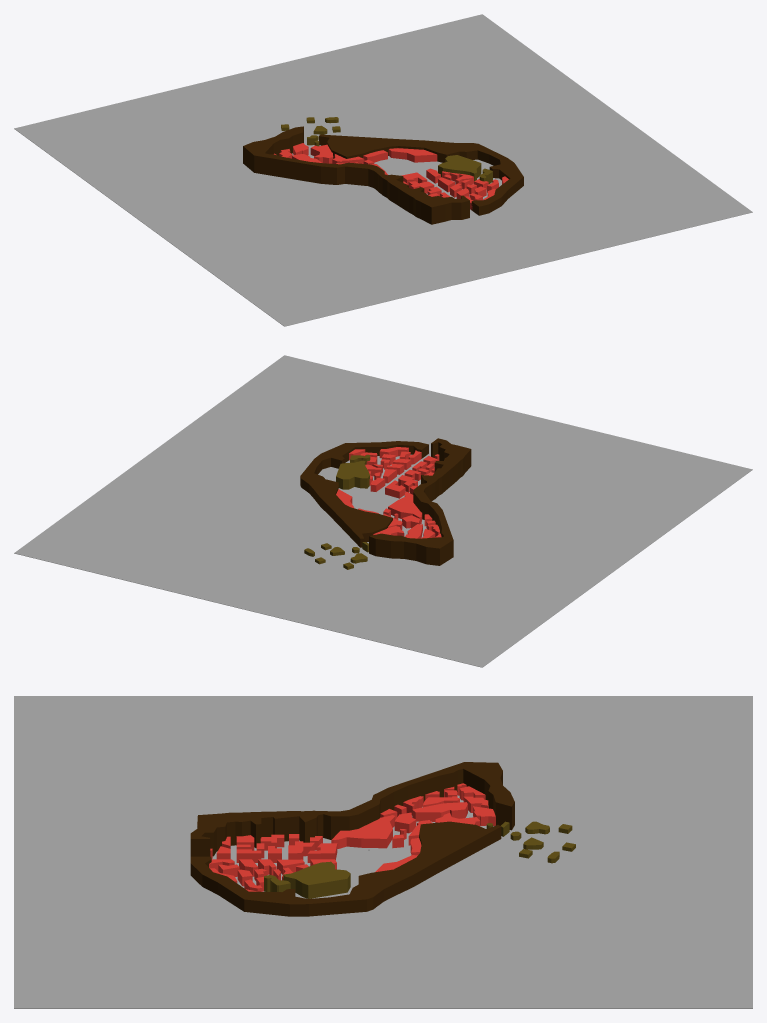
Rendered from lvl2_blockout.fbx.
3 views of the same model, one above another, from view 1: azimuth 30°, elevation 25°; view 2: azimuth 150°, elevation 25°; view 3: azimuth 270°, elevation 25° (orthographic). The views are drawn at different scales.
Parts seen in each view (by area): view 1: plane, wall_02, wall_01, home, rocks; view 2: plane, wall_02, home, wall_01, rocks; view 3: plane, home, wall_02, wall_01, rocks.
Part boxes in pixels (x1,y1,x2,y2): plane: [14, 14, 752, 326]; wall_02: [243, 126, 469, 224]; wall_01: [319, 134, 523, 215]; home: [274, 143, 508, 209]; rocks: [281, 117, 492, 183]; plane: [14, 355, 752, 667]; wall_02: [369, 438, 471, 565]; home: [336, 447, 441, 538]; wall_01: [300, 441, 428, 547]; rocks: [304, 454, 370, 569]; plane: [14, 696, 752, 1008]; home: [209, 783, 495, 891]; wall_02: [190, 762, 514, 856]; wall_01: [190, 821, 501, 916]; rocks: [264, 821, 575, 898].
Bounding box in the file's own units: 610 × 32.02 × 610.
